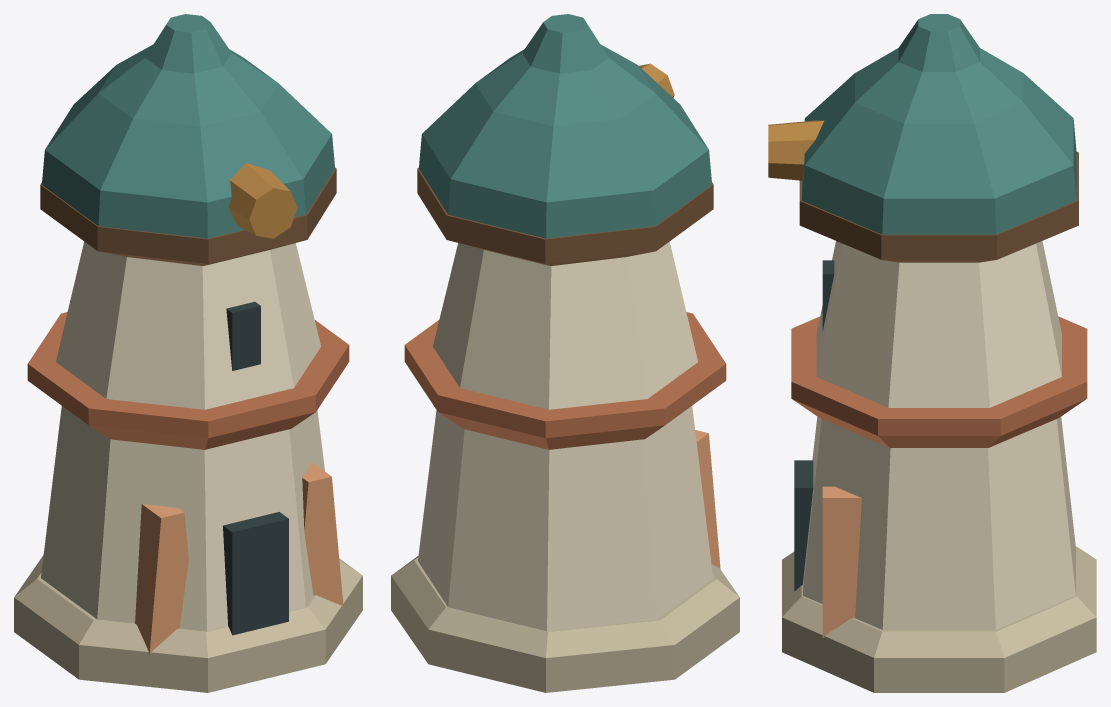
The model's file is ns-windmill.glb.
3 views of the same model, side by side, from view 1: azimuth 30°, elevation 25°; view 2: azimuth 150°, elevation 25°; view 3: azimuth 270°, elevation 25° (orthographic).
Visible parts, largest first — view 1: Work profile; view 2: Work profile; view 3: Work profile.
Boxes of the visible parts, bbox=[...] form: Work profile: bbox=[14, 14, 362, 692]; Work profile: bbox=[391, 14, 739, 692]; Work profile: bbox=[768, 14, 1096, 692].
Bounding box in the file's own units: 0.316 × 0.636 × 0.315.
